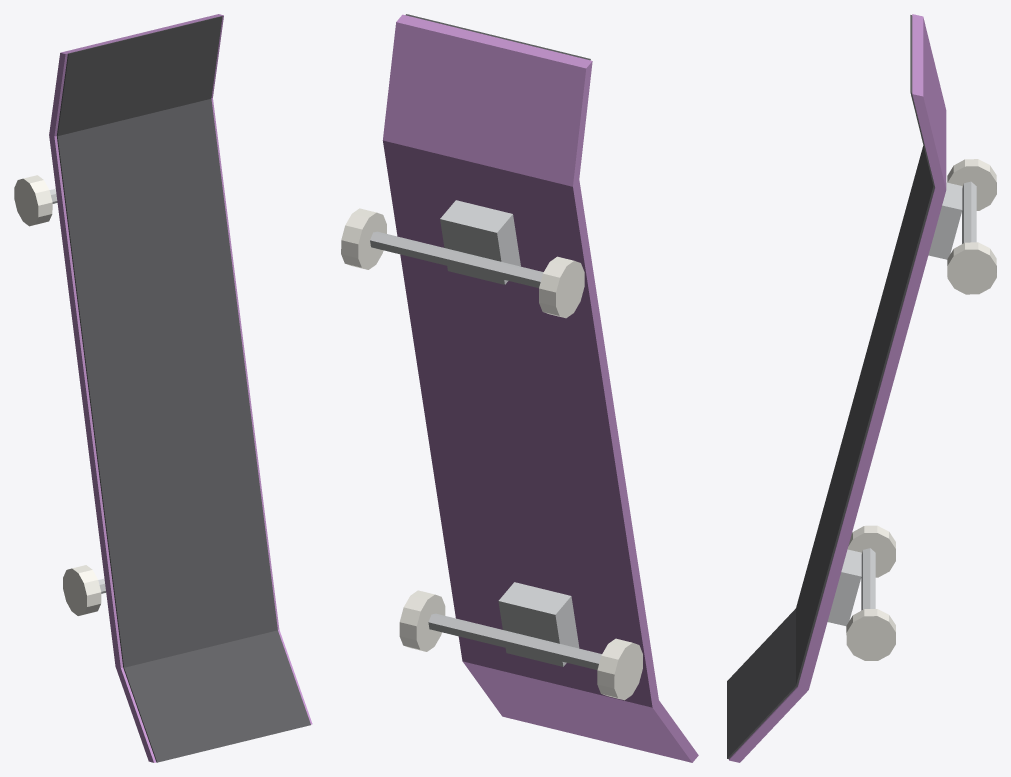
File: skate_lean_p.glb
The picture shows the model from 3 angles, left to right: view 1: azimuth 30°, elevation 25°; view 2: azimuth 150°, elevation 25°; view 3: azimuth 270°, elevation 25°; orthographic projection. The views are drawn at different scales.
Parts seen in each view (by area): view 1: skate_lean_p_grip, skate_lean_p_paint_p, skate_lean_p_wheel_w; view 2: skate_lean_p_paint_p, skate_lean_p_metal, skate_lean_p_wheel_w; view 3: skate_lean_p_grip, skate_lean_p_paint_p, skate_lean_p_wheel_w, skate_lean_p_metal.
Boxes of the visible parts, x1,y1,x2,y2 form: skate_lean_p_grip: (57, 16, 310, 762); skate_lean_p_paint_p: (49, 14, 312, 762); skate_lean_p_wheel_w: (14, 175, 101, 615); skate_lean_p_paint_p: (382, 14, 698, 762); skate_lean_p_metal: (370, 200, 601, 669); skate_lean_p_wheel_w: (341, 208, 642, 700); skate_lean_p_grip: (727, 15, 934, 759); skate_lean_p_paint_p: (729, 14, 946, 762); skate_lean_p_wheel_w: (846, 159, 996, 660); skate_lean_p_metal: (827, 181, 976, 625).
Bounding box in the file's own units: 0.226 × 0.7796 × 0.2849.
